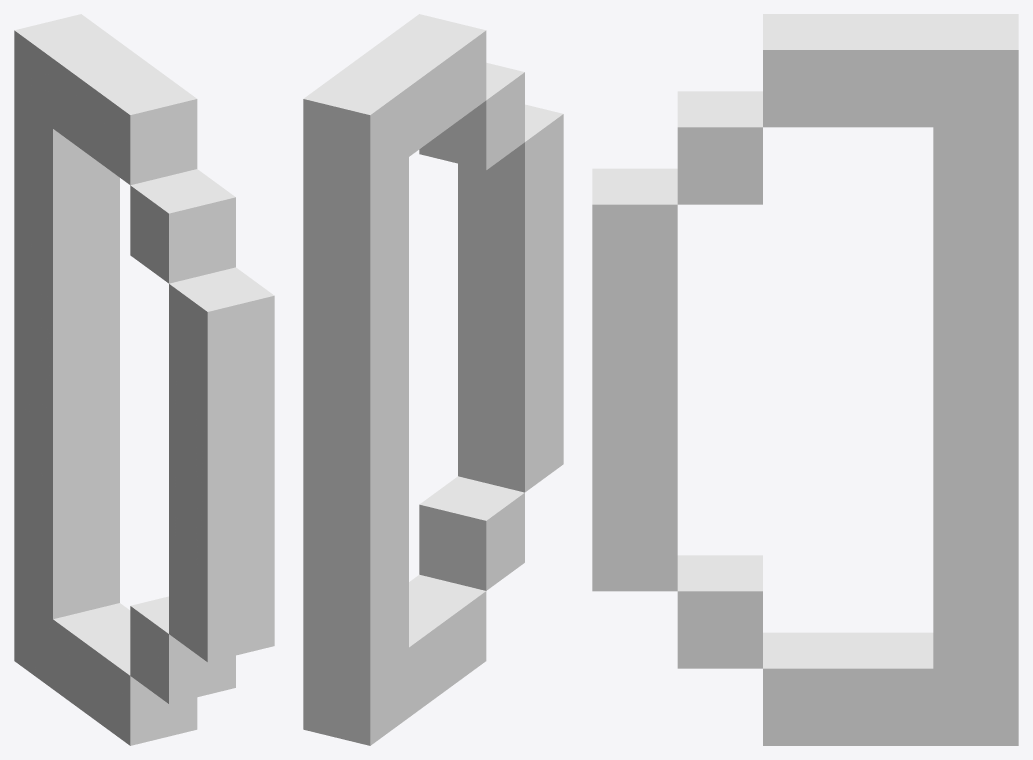
Rendered from let_D.obj.
The picture shows the model from 3 angles, left to right: view 1: azimuth 30°, elevation 25°; view 2: azimuth 150°, elevation 25°; view 3: azimuth 270°, elevation 25°; orthographic projection. The views are drawn at different scales.
Size of the model in its own units: 0.1 by 0.9 by 0.5.
1 material, 1 textured.
